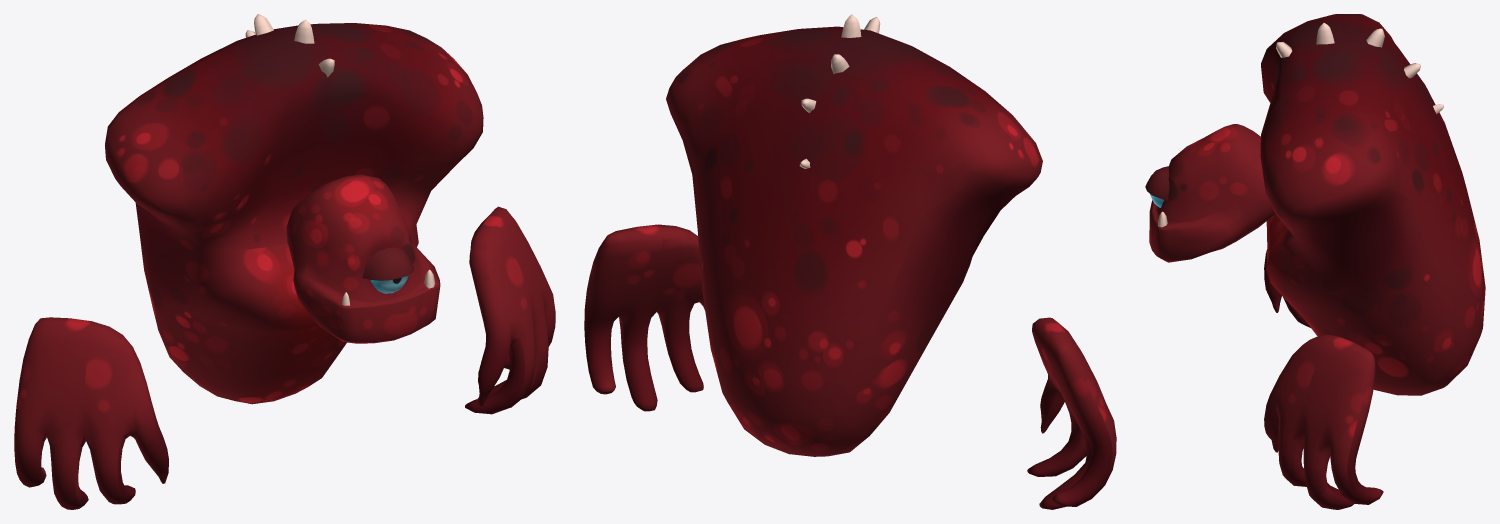
Rendered from UT_Character002-2.fbx.
The picture shows the model from 3 angles, left to right: view 1: azimuth 30°, elevation 25°; view 2: azimuth 150°, elevation 25°; view 3: azimuth 270°, elevation 25°; orthographic projection. The views are drawn at different scales.
Visible parts, largest first — view 1: Body_Low, HandRight_Low, Eye_Low1, HandLeft_Low; view 2: Body_Low, HandLeft_Low, HandRight_Low; view 3: Body_Low, HandLeft_Low, Eye_Low1, HandRight_Low.
Boxes of the visible parts, bbox=[...] form: Body_Low: bbox=[105, 14, 483, 404]; HandRight_Low: bbox=[14, 317, 168, 509]; Eye_Low1: bbox=[286, 174, 440, 343]; HandLeft_Low: bbox=[465, 206, 555, 414]; Body_Low: bbox=[666, 14, 1042, 456]; HandLeft_Low: bbox=[584, 224, 705, 411]; HandRight_Low: bbox=[1027, 317, 1116, 509]; Body_Low: bbox=[1260, 14, 1485, 395]; HandLeft_Low: bbox=[1264, 334, 1383, 509]; Eye_Low1: bbox=[1145, 124, 1274, 262]; HandRight_Low: bbox=[1264, 249, 1310, 327].
Bounding box in the file's own units: 3.67 × 2.88 × 2.23.
